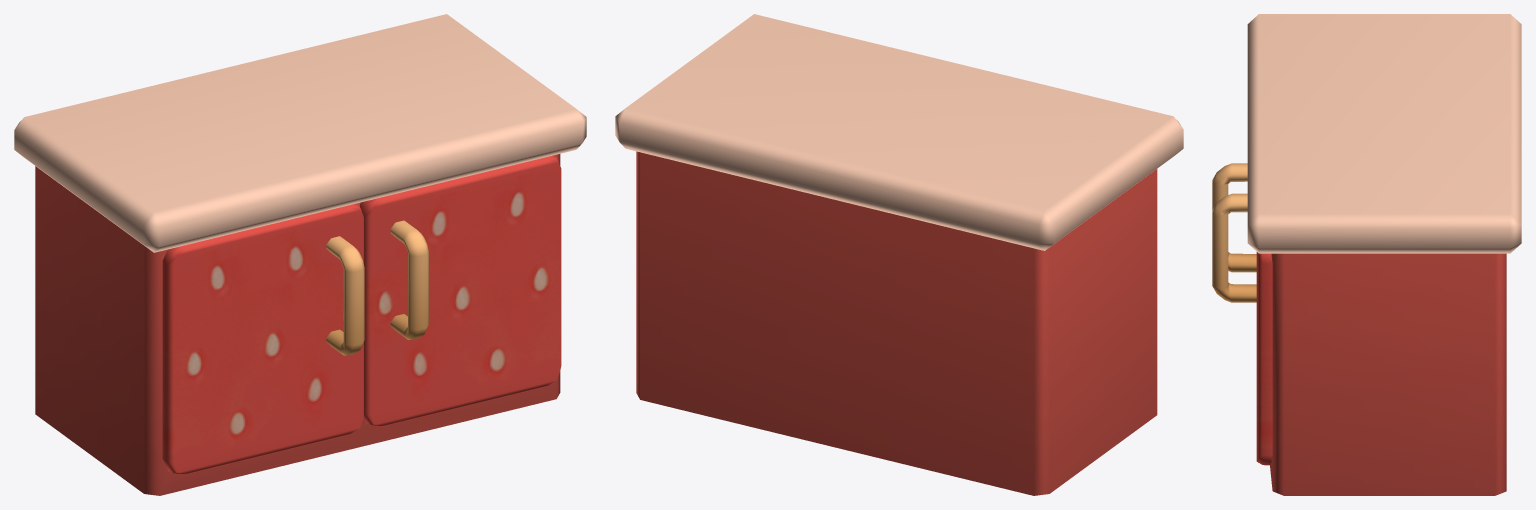
The model's file is Homestead_cm_3.fbx.
The picture shows the model from 3 angles, left to right: view 1: azimuth 30°, elevation 25°; view 2: azimuth 150°, elevation 25°; view 3: azimuth 270°, elevation 25°; orthographic projection. The views are drawn at different scales.
Parts seen in each view (by area): view 1: Homestead_cm_3; view 2: Homestead_cm_3; view 3: Homestead_cm_3.
Part boxes in pixels (x1,y1,x2,y2): Homestead_cm_3: (14, 14, 586, 495); Homestead_cm_3: (615, 14, 1183, 495); Homestead_cm_3: (1212, 14, 1521, 495).
Bounding box in the file's own units: 175 × 110 × 109.
